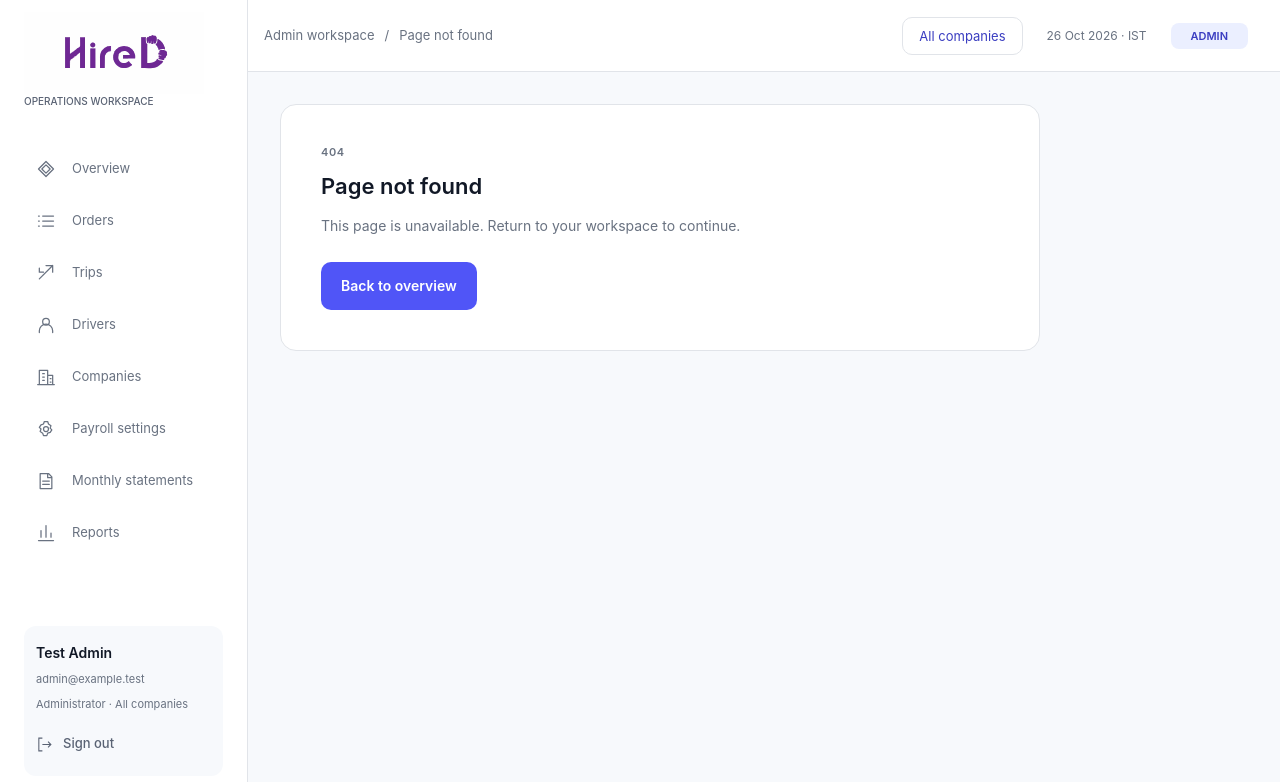
Test: protected admin routing › shows a protected not-found page with a working return link
This screenshot has width=1280, height=782.
Expected: the heading "Page not found" is shown, [321, 171, 482, 202]
Click the link "Back to overview".
click(399, 286)  # box [321, 262, 477, 310]
(page scrolled)
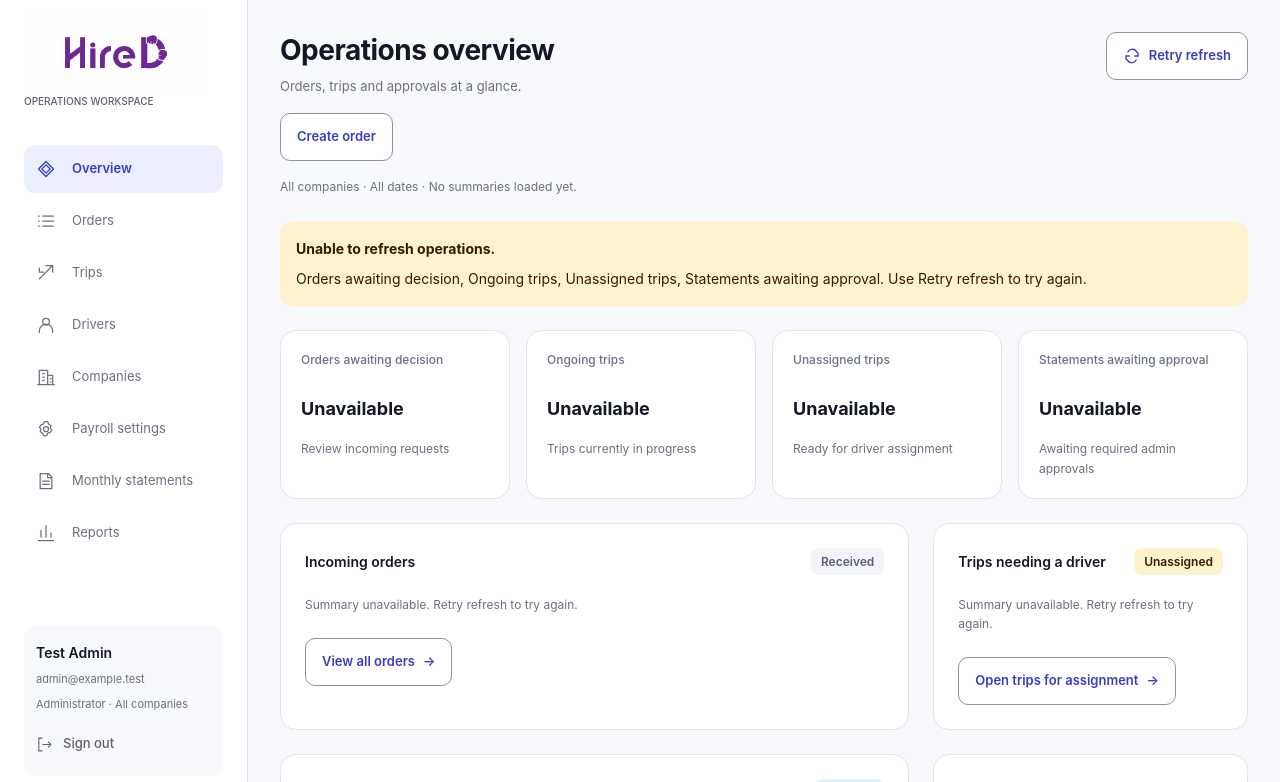
Expected: the heading "Operations overview" is shown, [280, 32, 554, 68]
